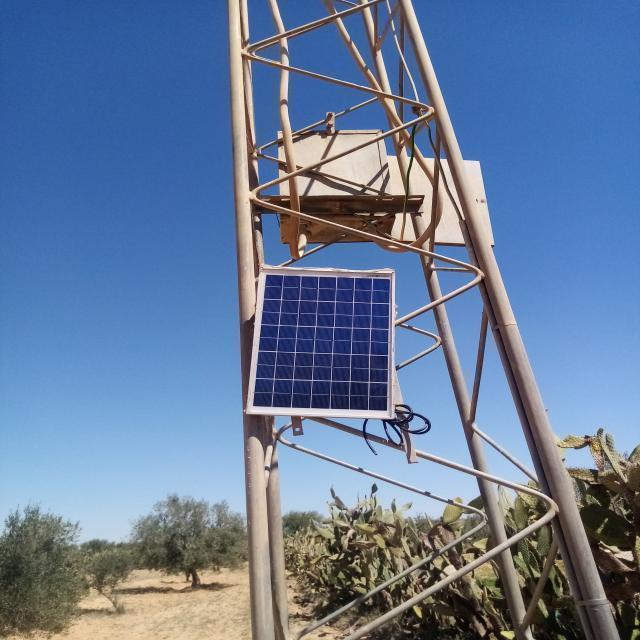Normal Solar Panel: (248, 268, 394, 417)
